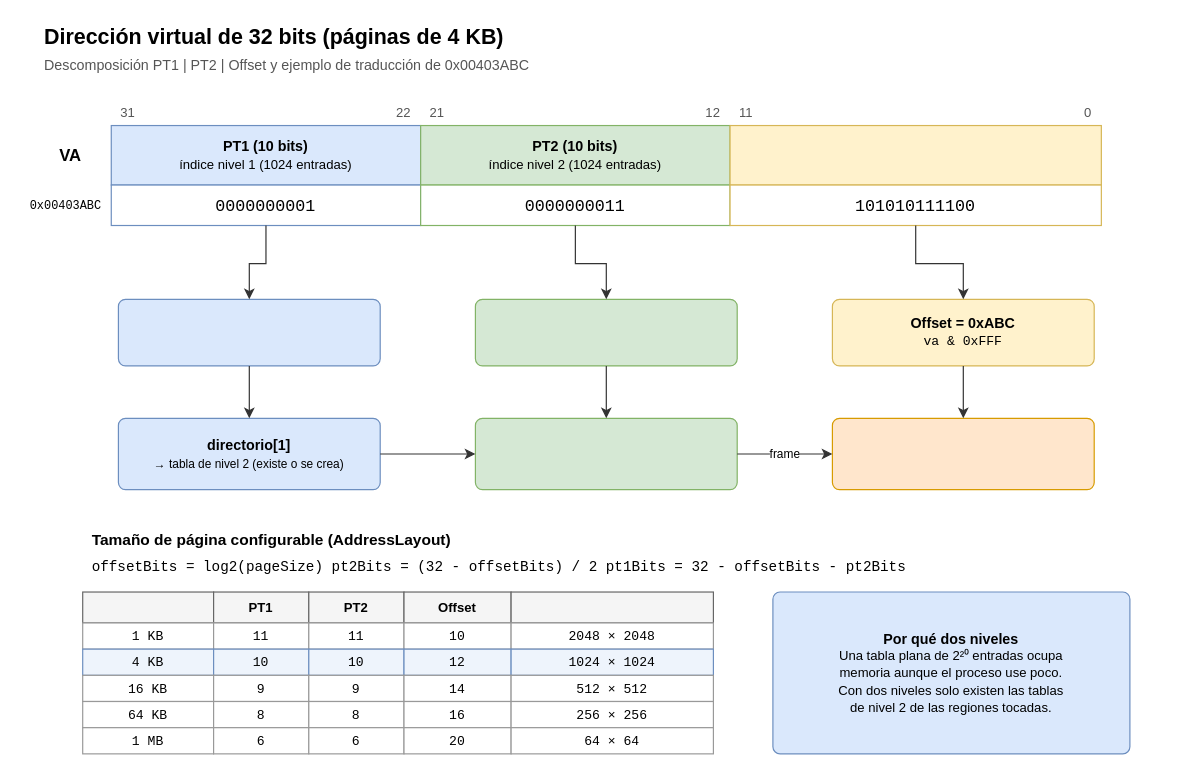
This 1197x775 diagram has some shape labels left out. Each missing label, with the centre of its shape:
Entradas L1 × L2: point 611,607
Offset (12 bits) desplazamiento en la página: point 915,154
PA = 0x00000ABC (frame << 12) | offset: point 962,453
PT1 = 0x001 = 1 va >> 22: point 248,332
PT2 = 0x003 = 3 (va >> 12) & 0x3FF: point 605,332
Página: point 148,607
tabla2[3] = PTE frame=0 V=1 A=1 D=1 S=0: point 605,453
